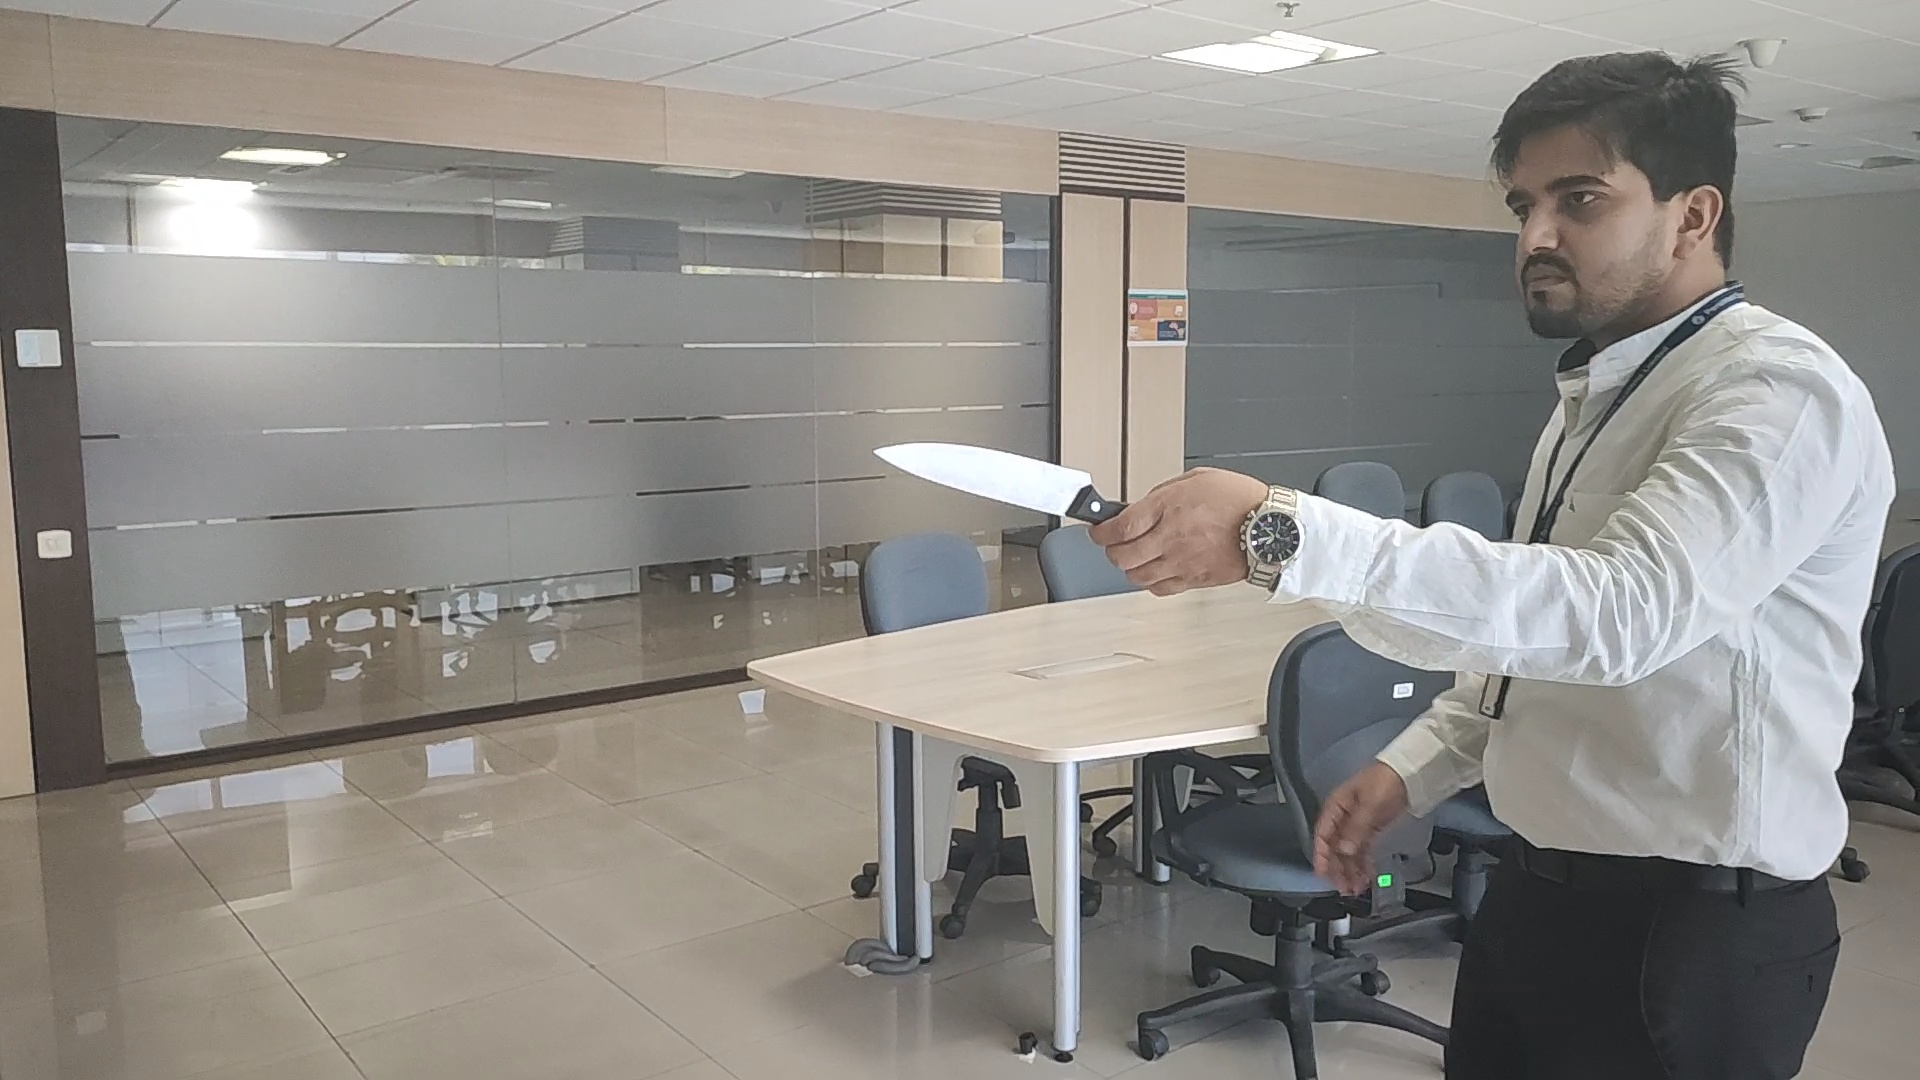knife: (874, 439, 1120, 520)
